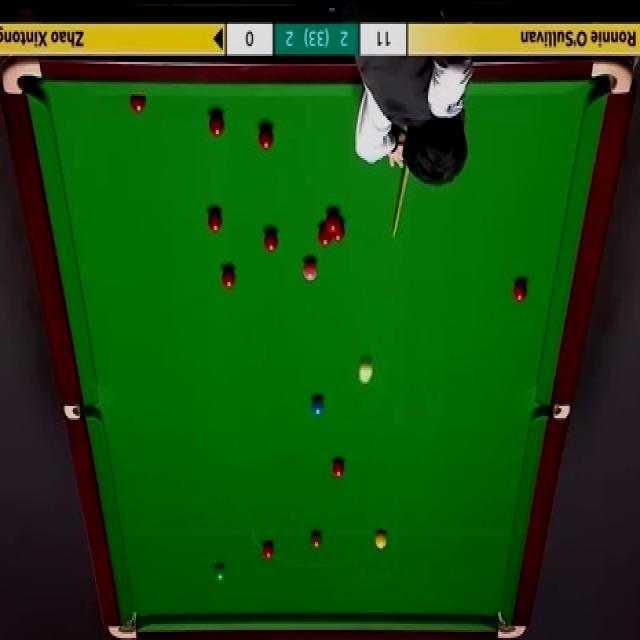blue-ball: (310, 396, 325, 416)
brown-ball: (310, 532, 322, 552)
green-ball: (214, 562, 228, 584)
pink-ball: (301, 256, 318, 281)
red-ball: (208, 112, 226, 138), (220, 265, 236, 291), (260, 125, 274, 154), (513, 275, 528, 302), (209, 205, 223, 232), (331, 457, 347, 480), (263, 230, 278, 254), (332, 218, 346, 242), (130, 95, 146, 115), (261, 541, 276, 562), (318, 222, 331, 246), (324, 210, 340, 229)
white-ball: (358, 356, 374, 384)
yellow-ball: (374, 531, 388, 549)
